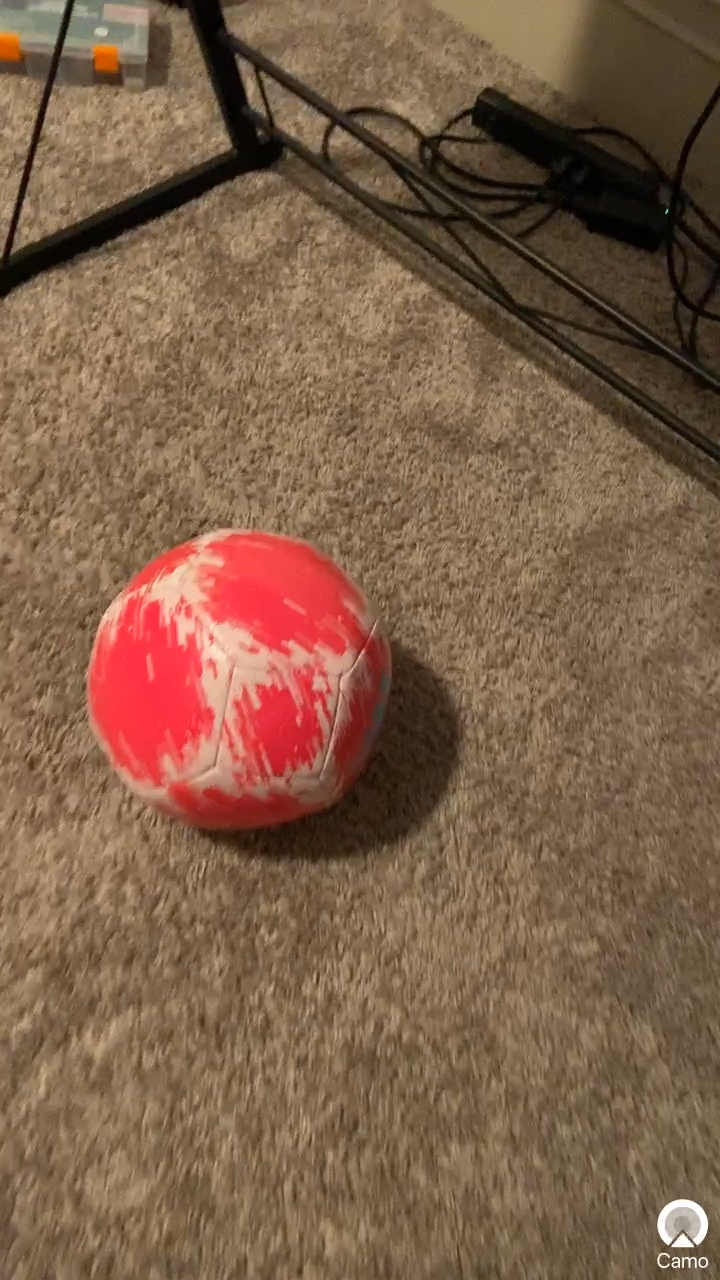Soccer_Ball: (86, 518, 398, 852)
